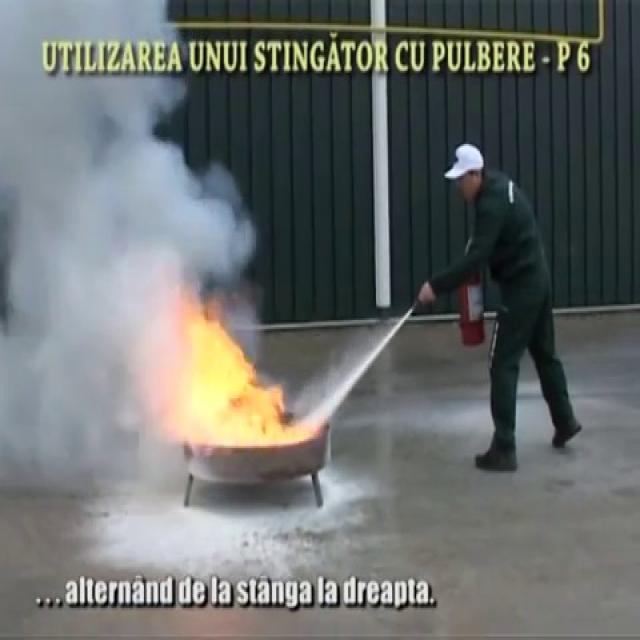Fire: (190, 310, 294, 446)
Smoke: (0, 0, 235, 475)
